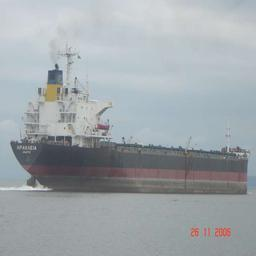Ship: (10, 66, 252, 197)
